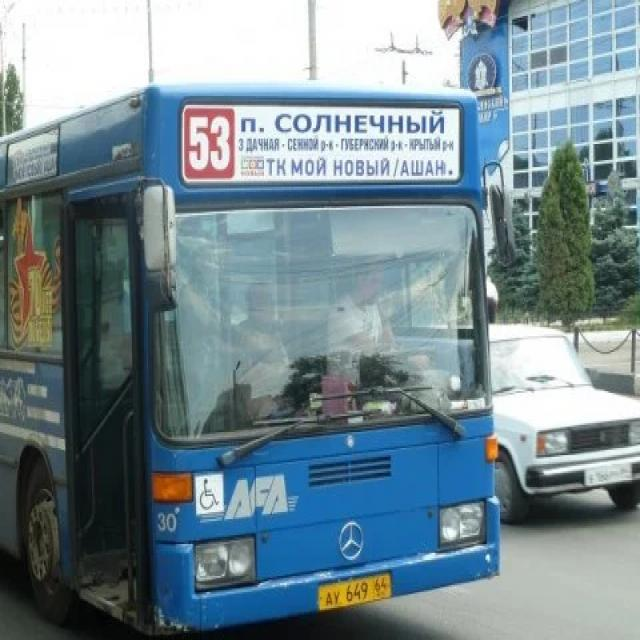number-of-bus: (185, 102, 237, 183)
